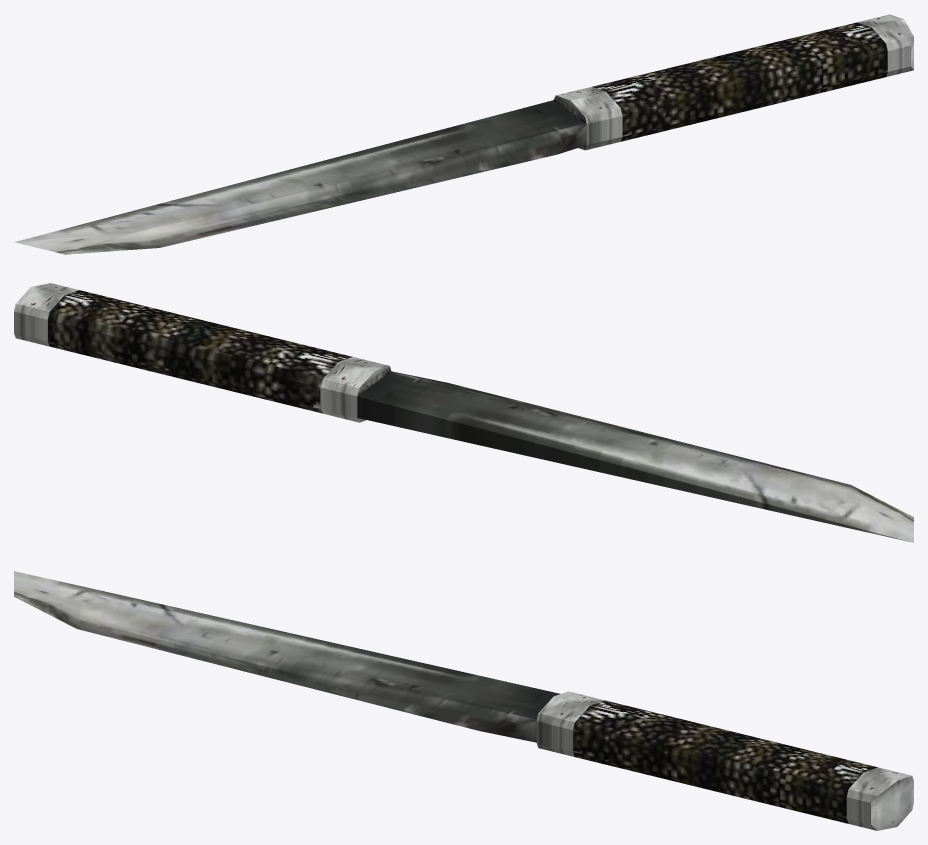
Rendered from KM_ITMW_KNIFE_01.glb.
3 views of the same model, one above another, from view 1: azimuth 30°, elevation 25°; view 2: azimuth 150°, elevation 25°; view 3: azimuth 330°, elevation 25° (orthographic). The views are drawn at different scales.
Visible parts, largest first — view 1: KM_ITMW_KNIFE_01; view 2: KM_ITMW_KNIFE_01; view 3: KM_ITMW_KNIFE_01.
Boxes of the visible parts, left/top/right/bottom form: KM_ITMW_KNIFE_01: left=14, top=14, right=913, bottom=254; KM_ITMW_KNIFE_01: left=14, top=283, right=913, bottom=542; KM_ITMW_KNIFE_01: left=14, top=571, right=913, bottom=830.
Bounding box in the file's own units: 0.4672 × 0.0229 × 0.0427.
Materials: 2 (2 with a texture image).
